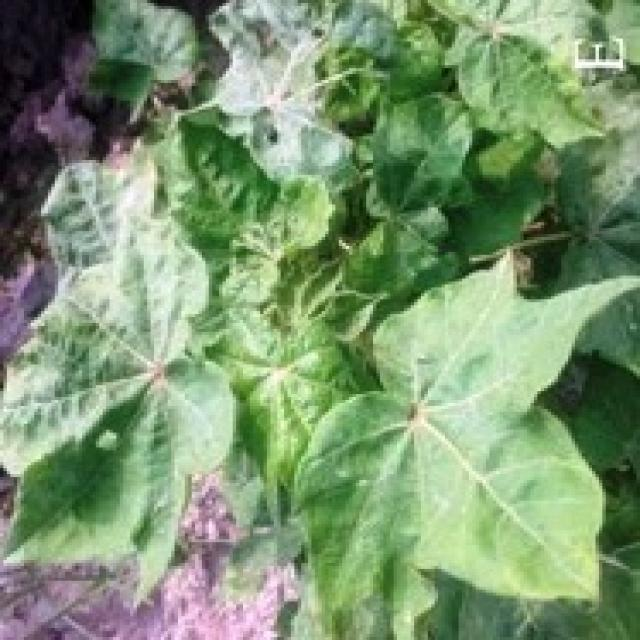Leaf Curl Virus: (78, 186, 421, 530)
